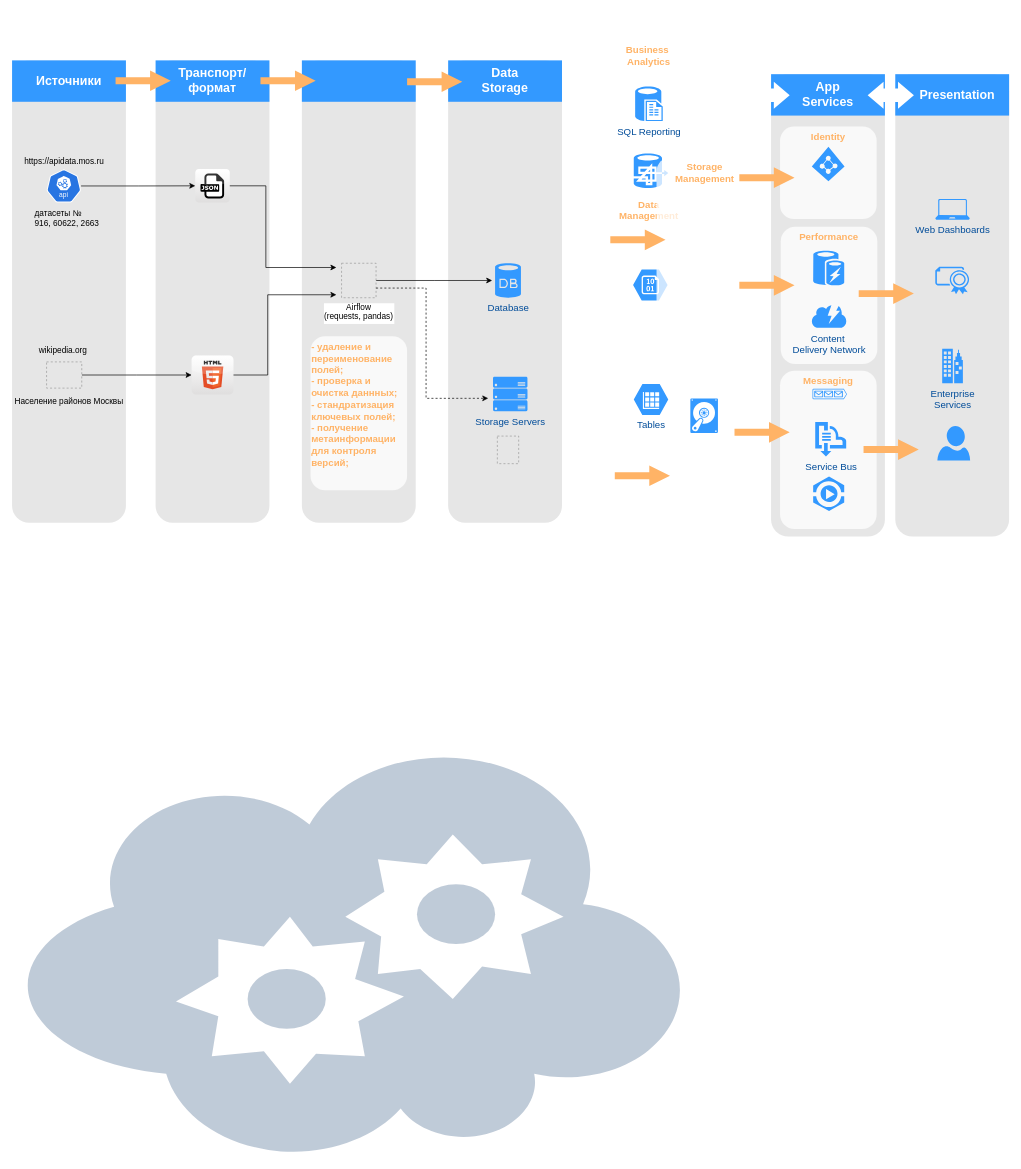
Image size: 1021x1169. Some labels were removed from this diagram. Grey dashed boxes stand in for pictures. Here are the shapes that lost their labels. From the top down, the centre of each, then its label:
point 358,80: Трансформация/ загрузка
point 650,170: HDInsight
point 827,163: Windows Azure Active Directorry
point 650,284: Blobs
point 828,267: Caching
point 952,280: Certificates
point 829,393: Queues
point 704,415: Physical Data Storage
point 953,443: Seminars
point 828,493: Media Services
